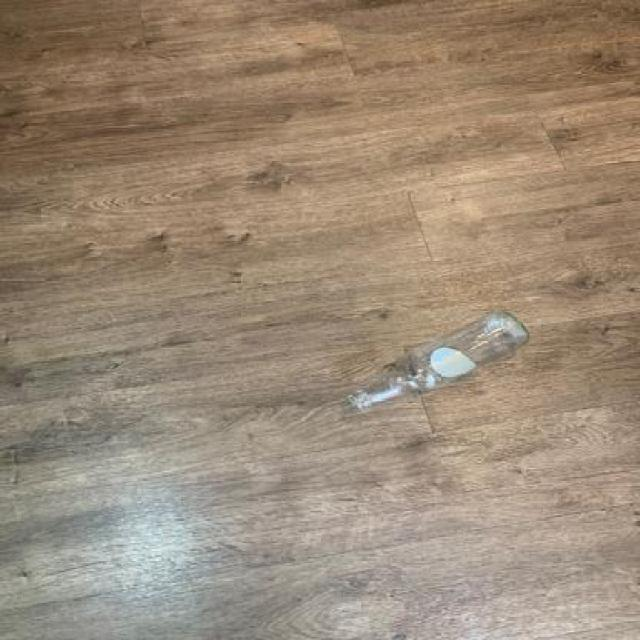trash: (346, 308, 537, 414)
